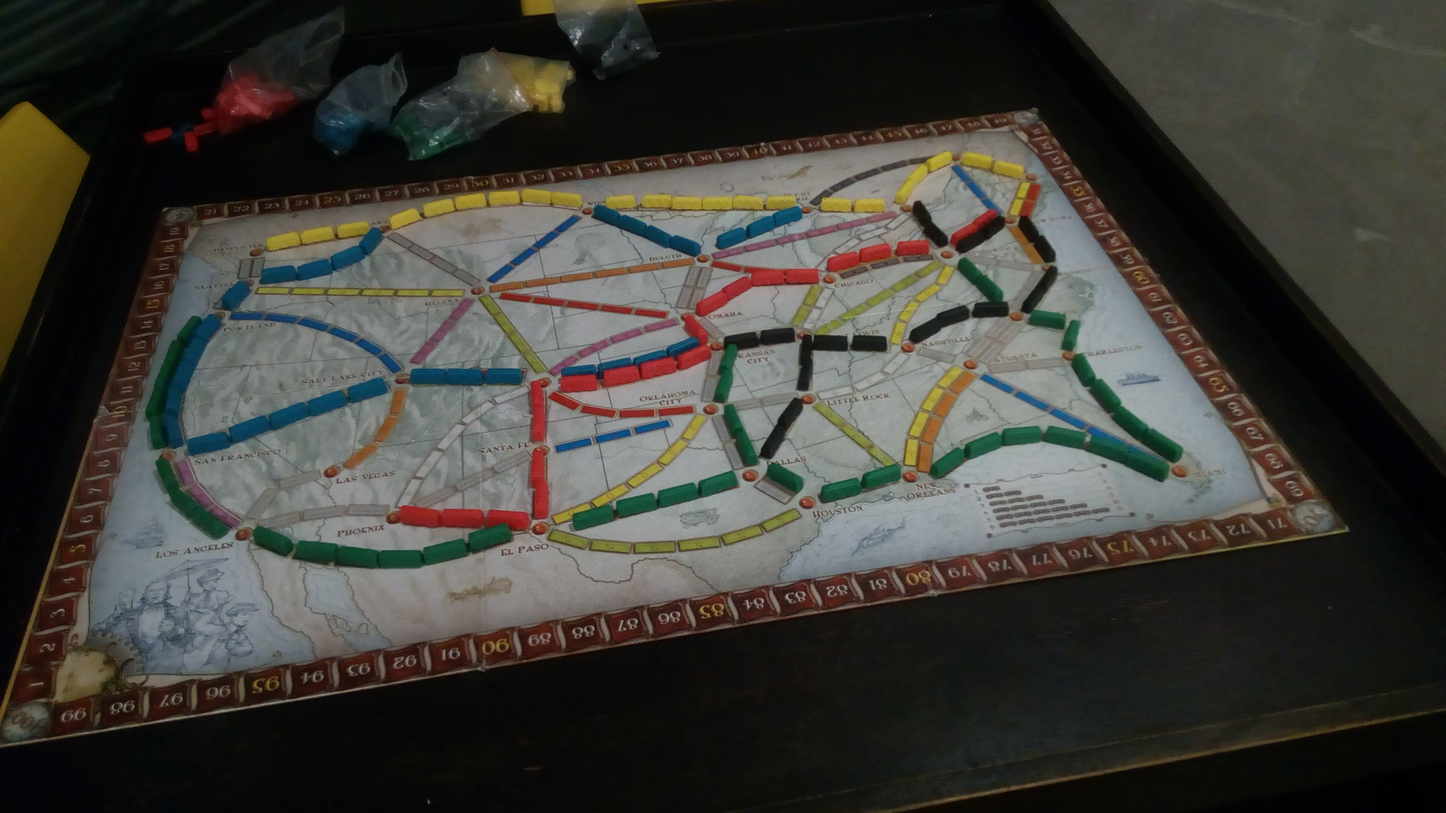black_train: (759, 421, 787, 459), (775, 396, 806, 430), (908, 316, 943, 344), (955, 230, 987, 255), (1021, 284, 1047, 314), (922, 221, 949, 248), (1034, 234, 1058, 263), (851, 334, 888, 352), (935, 305, 970, 324), (760, 327, 796, 345), (972, 301, 1010, 318), (797, 356, 815, 391), (725, 332, 759, 350), (982, 216, 1006, 241), (813, 334, 848, 351), (1019, 214, 1040, 242), (912, 199, 932, 225), (1037, 266, 1058, 289), (799, 335, 812, 361)
blue_train: (229, 415, 271, 443), (268, 403, 309, 429), (347, 377, 388, 402), (306, 391, 348, 415), (188, 432, 231, 455), (170, 359, 198, 391), (330, 245, 365, 270), (220, 281, 250, 310), (297, 259, 333, 280), (181, 336, 208, 363), (194, 314, 221, 340), (358, 228, 383, 254), (261, 266, 297, 284), (666, 337, 700, 356), (164, 415, 184, 447), (669, 235, 701, 255), (484, 368, 523, 384), (747, 215, 775, 237), (774, 205, 802, 227), (447, 368, 483, 385), (164, 385, 183, 417), (617, 215, 647, 235), (716, 228, 746, 248), (411, 368, 446, 385), (643, 225, 669, 247), (593, 205, 619, 225), (599, 357, 633, 372), (633, 350, 667, 364), (560, 364, 597, 376)
green_train: (1124, 449, 1169, 481), (1141, 428, 1182, 462), (467, 524, 512, 552), (1112, 406, 1149, 440), (169, 487, 204, 521), (421, 539, 468, 564), (254, 526, 293, 556), (192, 509, 230, 539), (766, 462, 803, 492), (1087, 436, 1128, 463), (572, 505, 615, 530), (930, 448, 965, 478), (1091, 380, 1121, 414), (862, 463, 901, 489), (295, 540, 338, 563), (616, 494, 657, 518), (820, 478, 861, 502), (699, 471, 738, 496), (337, 545, 379, 568), (1044, 426, 1086, 449), (658, 483, 698, 507), (964, 433, 1002, 458), (736, 431, 759, 468), (958, 257, 986, 286), (975, 274, 1004, 302), (378, 550, 423, 568), (1071, 355, 1097, 386), (154, 358, 178, 391), (145, 385, 168, 419), (1028, 309, 1065, 330), (1002, 426, 1042, 445), (156, 459, 179, 492), (712, 368, 733, 403), (724, 404, 745, 438), (178, 317, 202, 345), (1061, 320, 1081, 350), (149, 418, 167, 449), (163, 340, 185, 365), (720, 344, 738, 371)
red_train: (486, 509, 529, 530), (400, 505, 440, 527), (696, 291, 730, 316), (441, 509, 484, 528), (639, 357, 676, 379), (602, 366, 640, 386), (677, 346, 710, 369), (1083, 345, 1143, 357), (950, 223, 979, 247), (684, 318, 710, 344), (560, 375, 599, 392), (530, 405, 547, 444), (530, 447, 546, 488), (827, 251, 859, 271), (895, 239, 930, 256), (532, 485, 549, 519), (860, 243, 892, 261), (722, 278, 751, 297), (752, 270, 784, 287), (972, 208, 997, 229), (785, 269, 819, 284), (530, 380, 545, 412), (701, 357, 701, 358)
yellow_train: (390, 208, 421, 230), (267, 231, 301, 251), (301, 226, 335, 244), (423, 198, 455, 217), (992, 159, 1024, 178), (893, 179, 917, 204), (926, 151, 953, 172), (337, 221, 370, 238), (961, 152, 994, 169), (551, 192, 583, 208), (818, 197, 852, 212), (456, 193, 487, 209), (606, 195, 637, 210), (671, 195, 702, 210), (732, 195, 763, 210), (906, 163, 928, 184), (490, 191, 520, 206), (521, 189, 550, 204), (765, 195, 796, 209), (641, 194, 671, 208), (854, 198, 884, 212), (702, 197, 732, 210)
